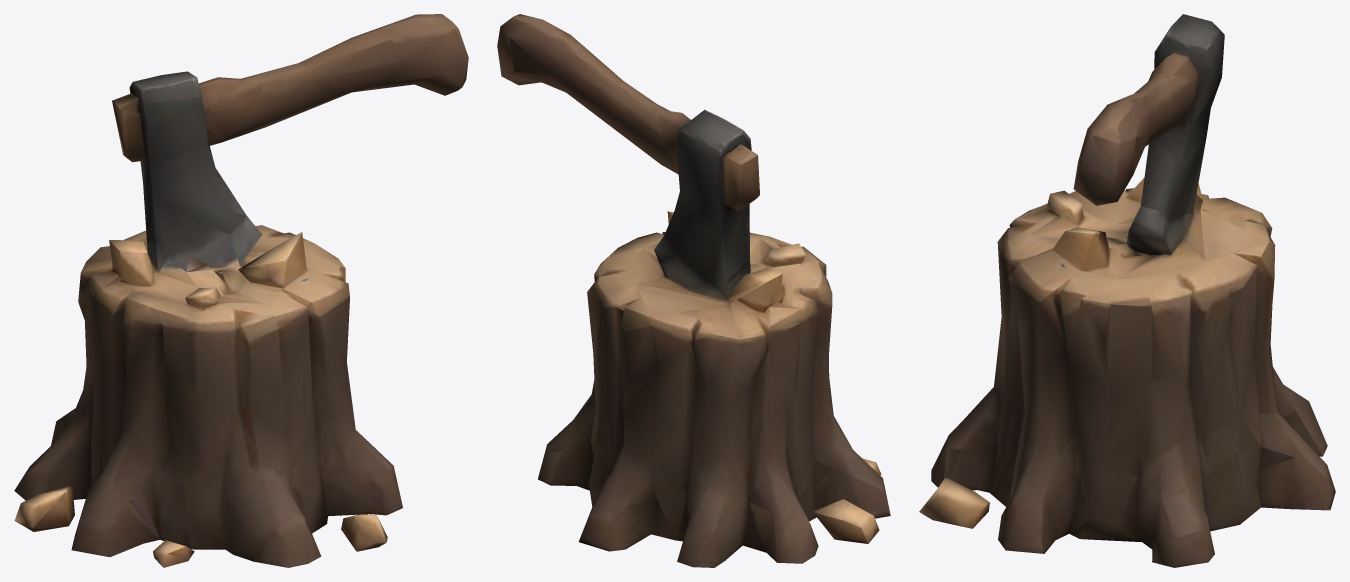
File: stump.glb
The picture shows the model from 3 angles, left to right: view 1: azimuth 30°, elevation 25°; view 2: azimuth 150°, elevation 25°; view 3: azimuth 270°, elevation 25°; orthographic projection. The views are drawn at different scales.
Visible parts, largest first — view 1: tripo_node_03bade25-9d3c-428b-9993-8d737706a9b6; view 2: tripo_node_03bade25-9d3c-428b-9993-8d737706a9b6; view 3: tripo_node_03bade25-9d3c-428b-9993-8d737706a9b6.
Part boxes in pixels (x1=…): tripo_node_03bade25-9d3c-428b-9993-8d737706a9b6: x1=14, y1=14, x2=468, y2=567; tripo_node_03bade25-9d3c-428b-9993-8d737706a9b6: x1=497, y1=14, x2=890, y2=567; tripo_node_03bade25-9d3c-428b-9993-8d737706a9b6: x1=919, y1=14, x2=1335, y2=567.
Size of the model in its own units: 0.9763 by 0.9796 by 0.7752.
1 material, 1 textured.
